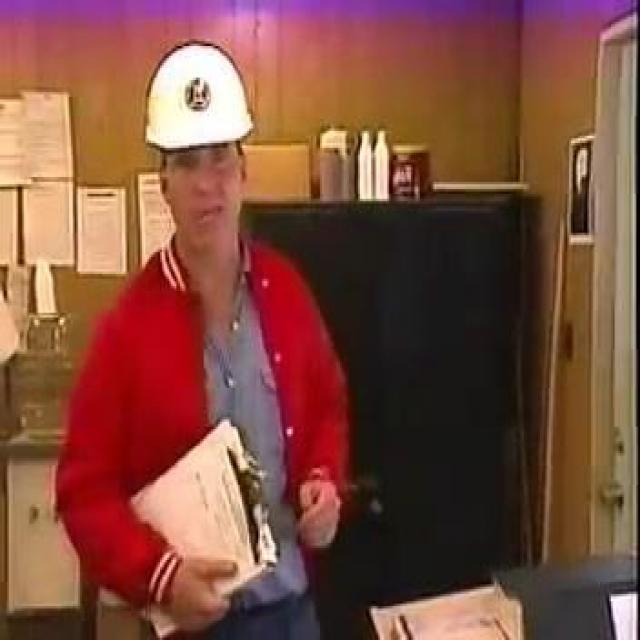Reflective-Jacket: (33, 228, 380, 635)
Safety-Helmet: (133, 34, 269, 167)
